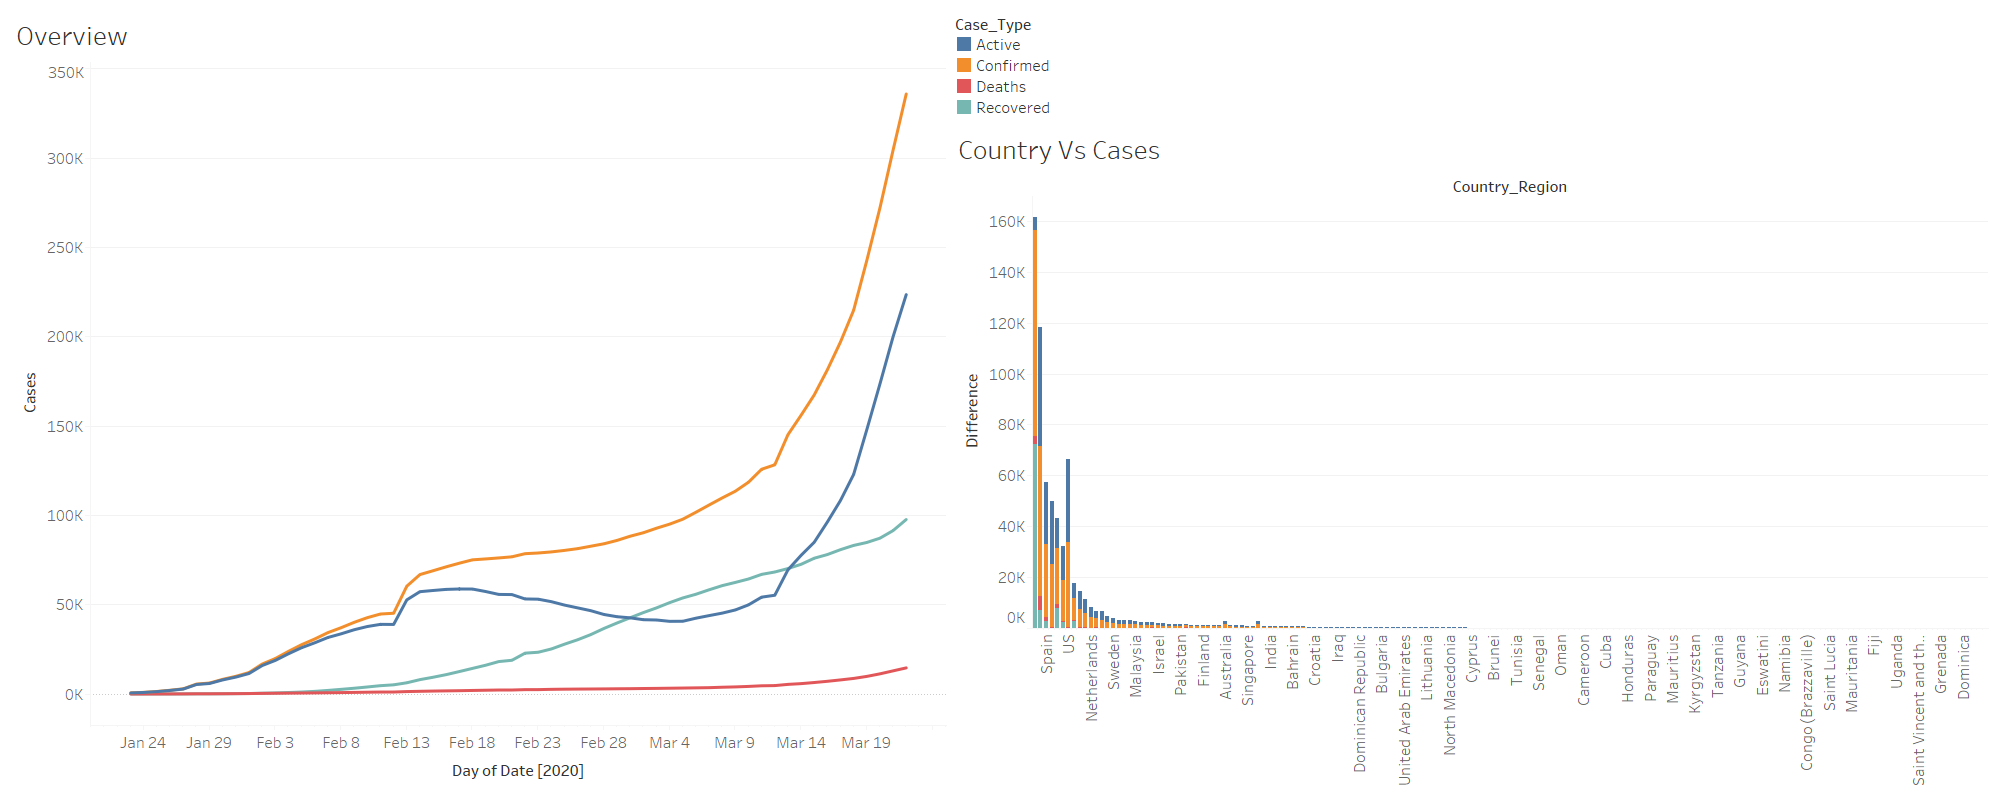

The dashboard page shown, as its layout file describes it:
{"tool":"tableau","page":{"name":"Covid-19 Study","canvas":[2000,800],"ordinal":0},"visuals":[{"type":"worksheet","title":"Overview","mark":"Automatic","rows":["Cases"],"cols":["Date"],"box":[8,8,942,784]},{"type":"legend","title":"Overview","param":"[federated.01498jj1rmv20s1eluj240v63iod].[none:Case_Type:nk]","box":[950,8,1042,114]},{"type":"worksheet","title":"Country Vs Cases","mark":"Automatic","rows":["Difference"],"cols":["Country_Region"],"box":[950,122,1042,670]}]}

Visuals, with their boxes in screenshot pixels (x1, y1, x2, y2), scaled from the page's 2000x800 canvas onto the 2000x800 screenshot:
"Overview" worksheet: (8,8,950,792)
"Overview" legend: (950,8,1992,122)
"Country Vs Cases" worksheet: (950,122,1992,792)
